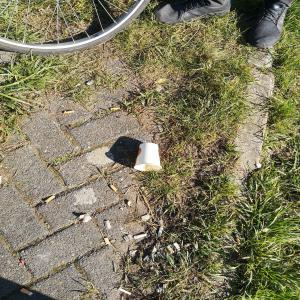Cup: (134, 143, 164, 173)
